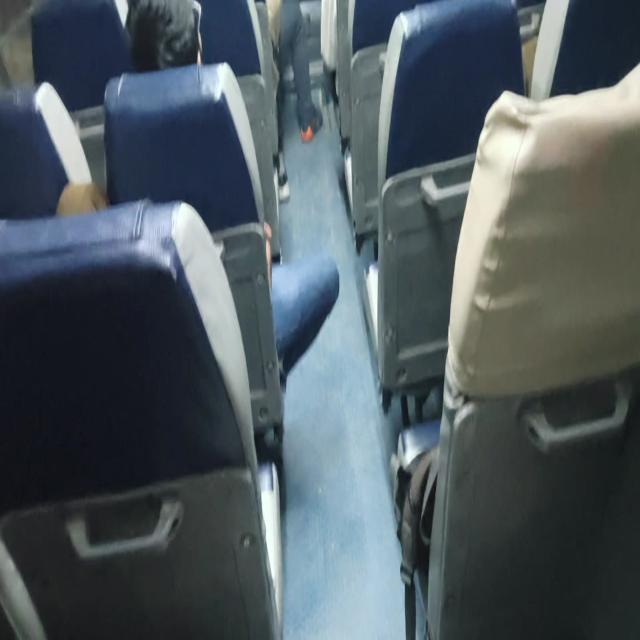person: (137, 0, 199, 65)
